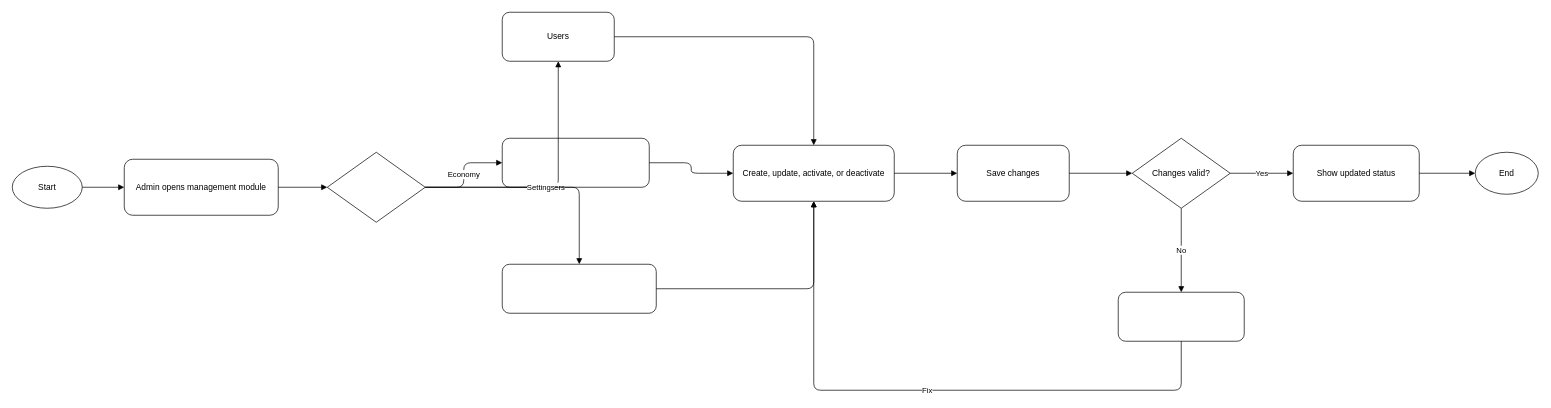
The diagram is 1551 pixels wide and 408 high, and some of its shapes have lost their labels. Each missing label, with the box of its shape:
Select module: (327, 152, 425, 222)
Show validation error: (1118, 292, 1244, 341)
System config / grading rubrics: (502, 264, 656, 313)
Top-up packages / promo codes: (502, 138, 649, 187)
